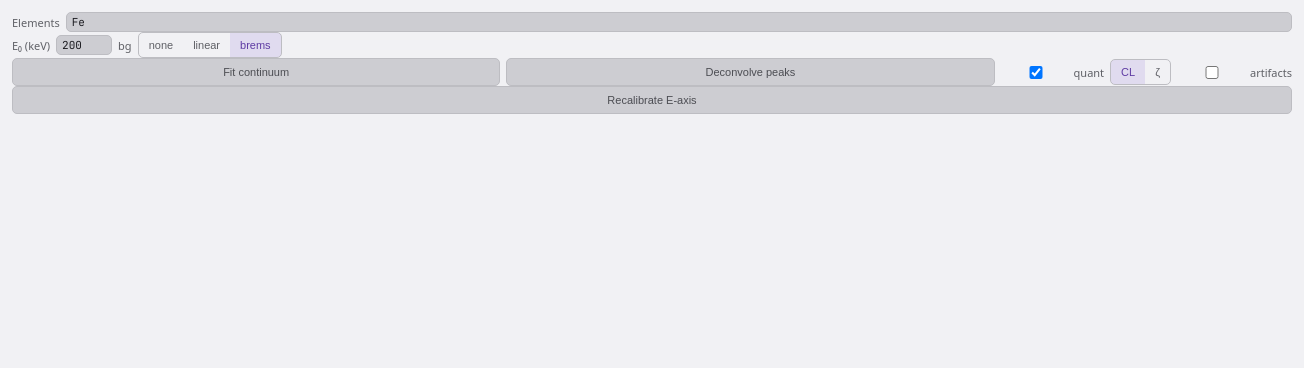
Test: EdsModelFit › renders the χ²ᵣ / R² readout from a peakfit response
This screenshot has width=1304, height=368.
Click the button "Deconvolve peaks": {"x": 750, "y": 72} [506,58,995,86]
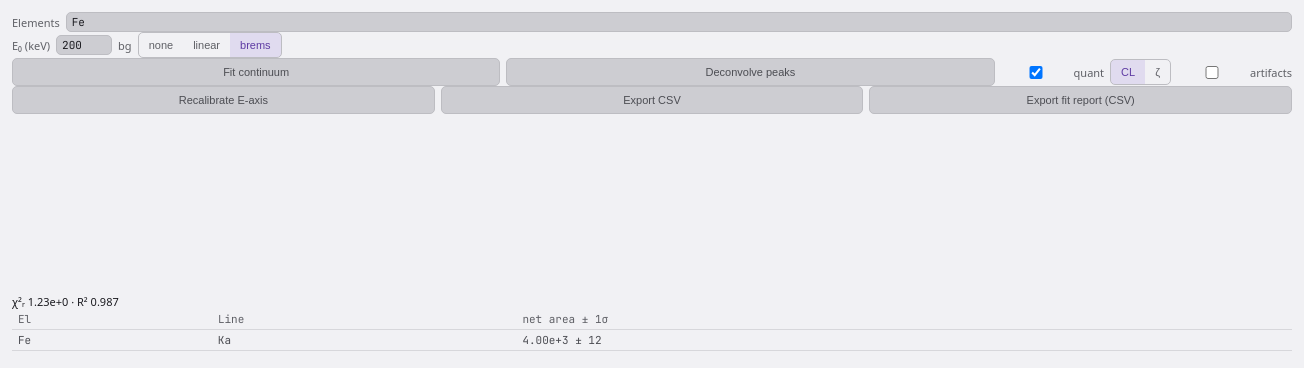
Expected: the text "χ²ᵣ 1.23e+0 · R² 0.987" is shown, [12,294,119,309]
